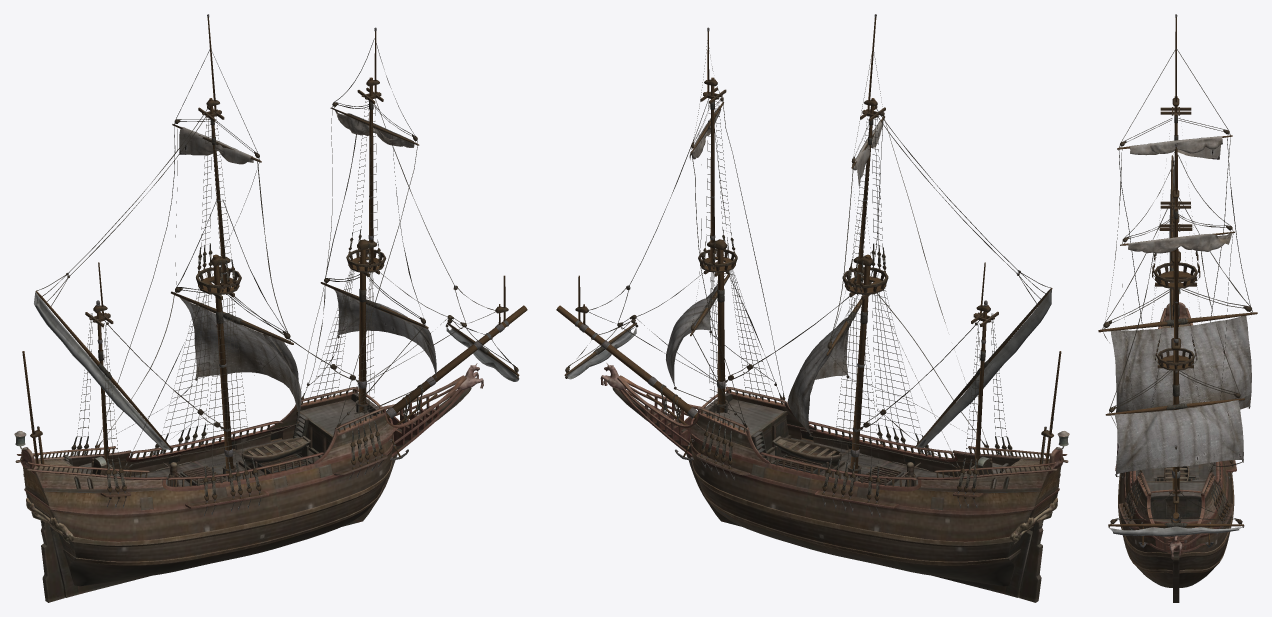
File: dutch_ship_medium.glb
3 views of the same model, side by side, from view 1: azimuth 30°, elevation 25°; view 2: azimuth 150°, elevation 25°; view 3: azimuth 270°, elevation 25° (orthographic). The views are drawn at different scales.
Parts seen in each view (by area): view 1: dutch_ship_medium_hull, dutch_ship_medium_rigging, dutch_ship_medium_sails; view 2: dutch_ship_medium_hull, dutch_ship_medium_rigging, dutch_ship_medium_sails; view 3: dutch_ship_medium_sails, dutch_ship_medium_rigging, dutch_ship_medium_hull.
Part boxes in pixels (x1,y1,x2,y2): dutch_ship_medium_hull: (14,363,483,602); dutch_ship_medium_rigging: (22,14,527,516); dutch_ship_medium_sails: (179,110,436,419); dutch_ship_medium_hull: (600,363,1069,602); dutch_ship_medium_rigging: (556,14,1061,516); dutch_ship_medium_sails: (666,105,882,434); dutch_ship_medium_sails: (1110,136,1251,473); dutch_ship_medium_rigging: (1098,14,1257,547); dutch_ship_medium_hull: (1115,289,1236,602).
Bounding box in the file's own units: 24.07 × 24.66 × 6.81.
Materials: 3 (3 with a texture image).
